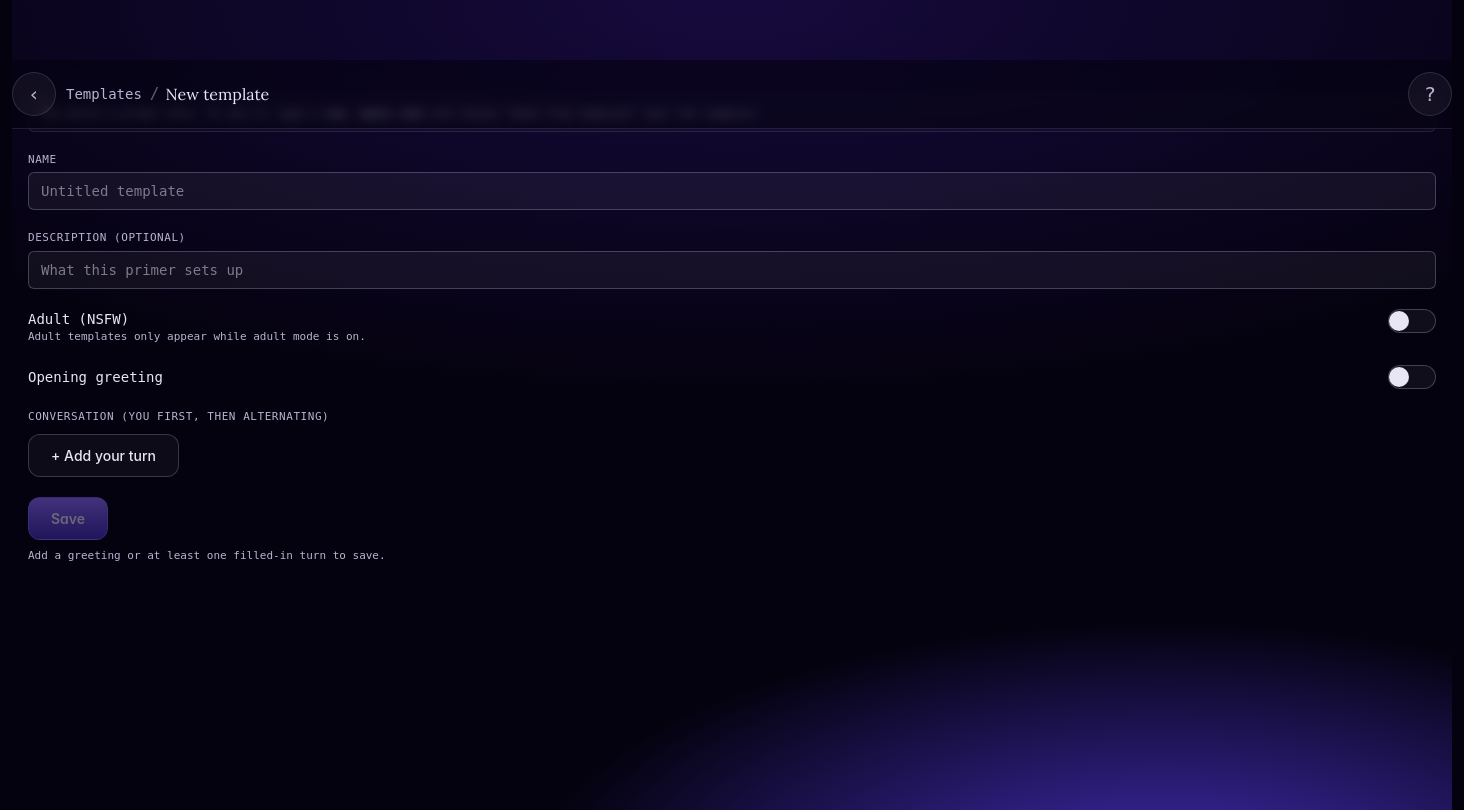
Test: TreasuryTemplatePage — create mode › disables Save until the template is applyable
Expected: the button "Save" is disabled, [28,496,108,540]
Enable the greeting and type something → applyable.
Click the button named "opening greeting" at x=1412, y=377, box [1388,365,1436,389]
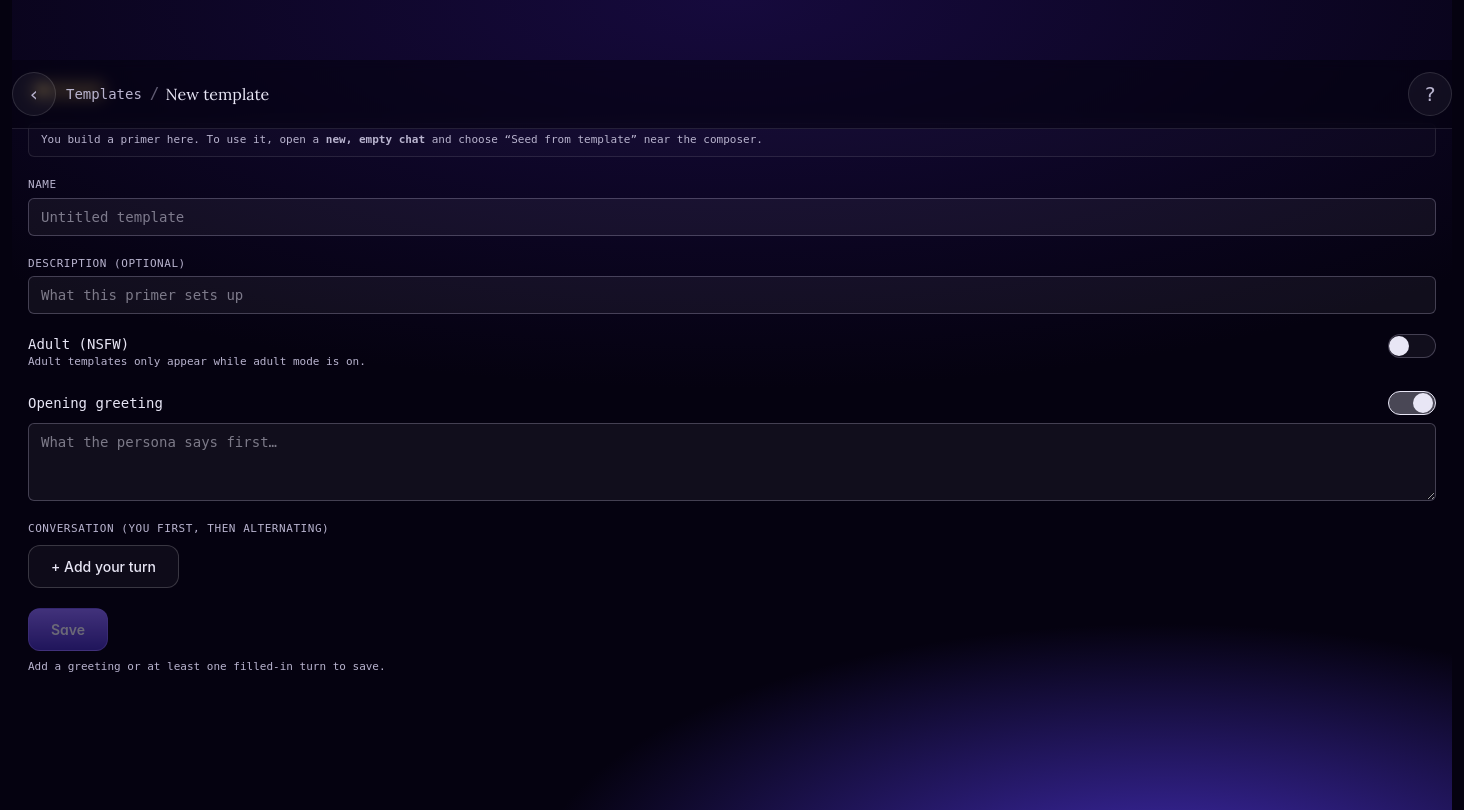
Type "Hi there" into the text box named "greeting text" at x=732, y=462, box [28,422,1436,500]
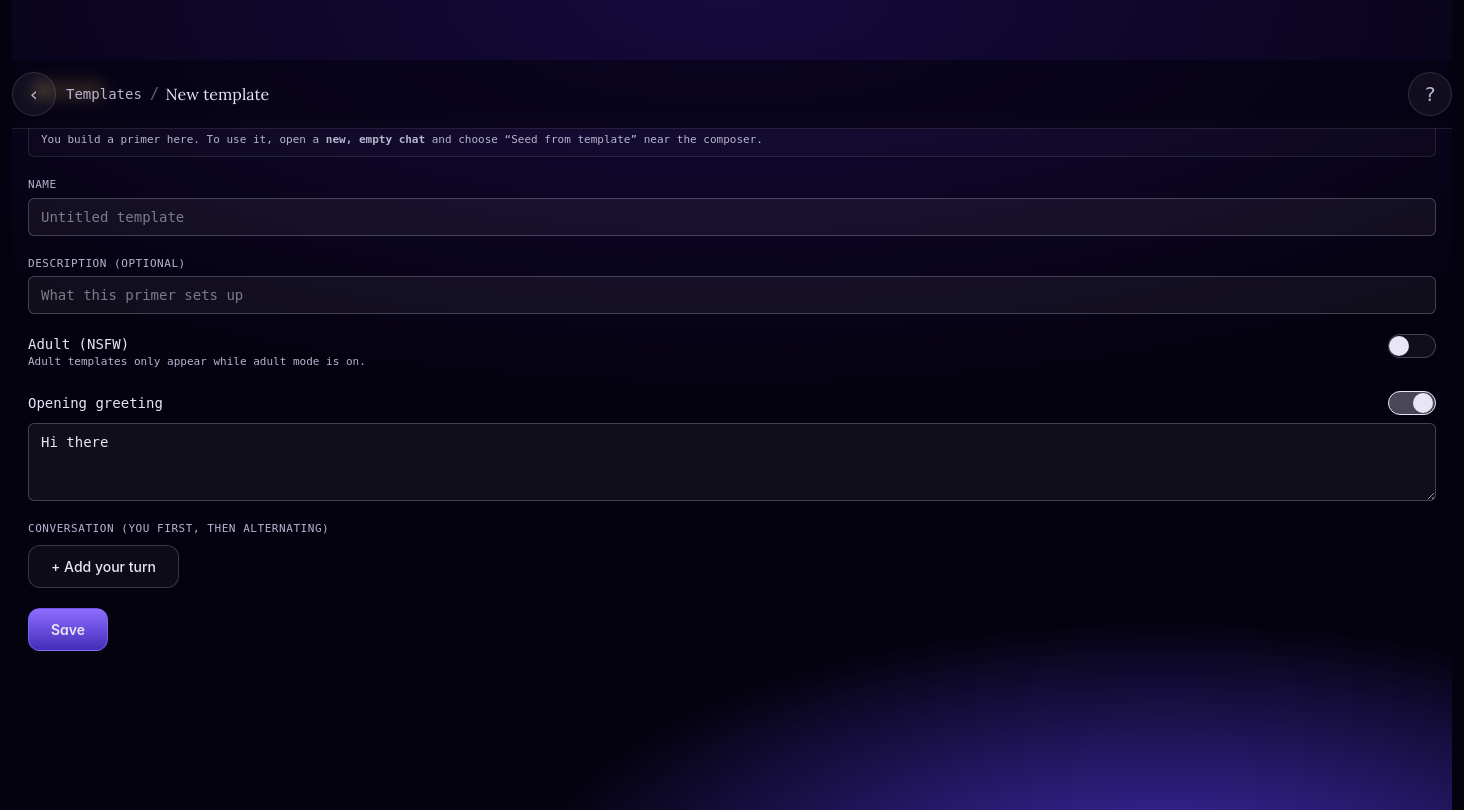
Now the button "Save" is enabled, box [28,608,108,651]
